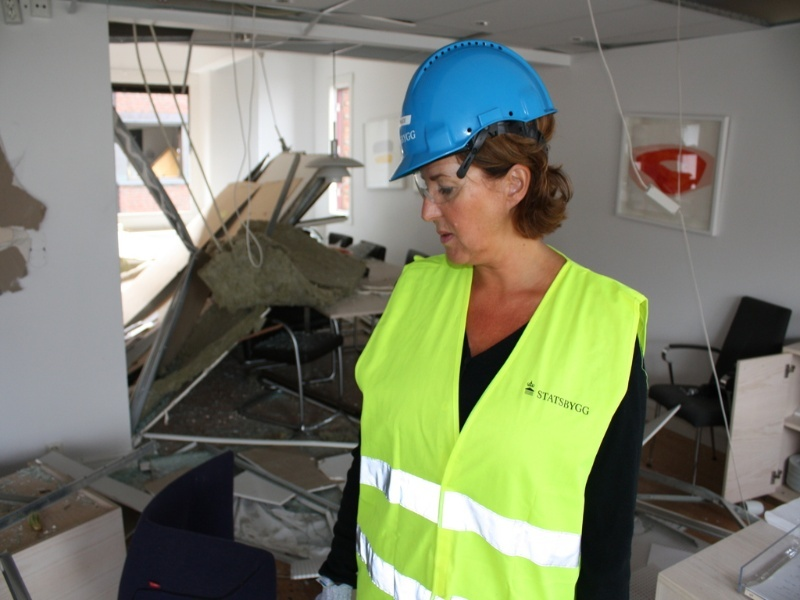baret: (384, 39, 555, 185)
